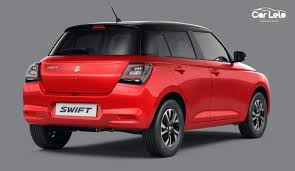Swift: (23, 16, 272, 157)
